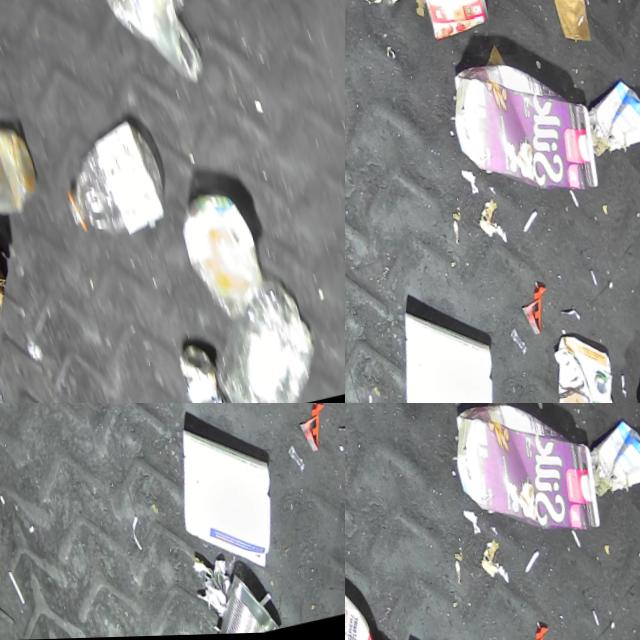can: (186, 567, 270, 636), (407, 0, 492, 45), (164, 336, 220, 403)
non_white_jug: (435, 43, 603, 217), (437, 403, 605, 556), (530, 331, 633, 403), (316, 466, 345, 613)
plastic_bottle: (42, 116, 169, 250)
